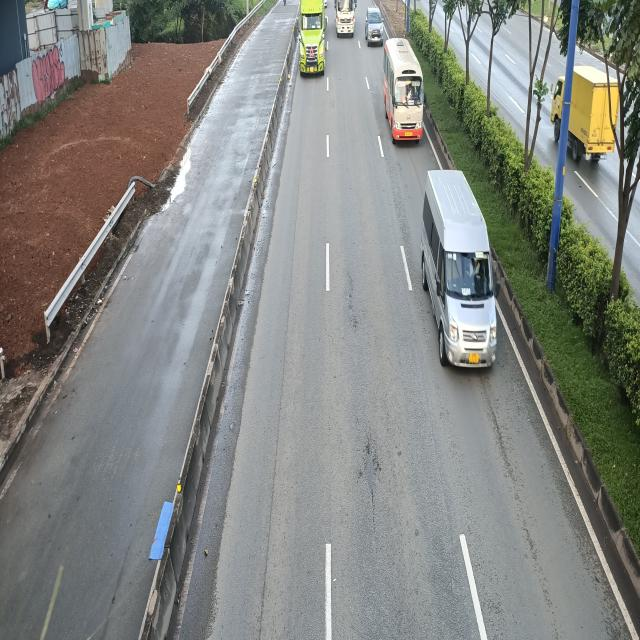car: (366, 7, 385, 46)
coach: (384, 40, 428, 144)
container: (294, 2, 326, 78)
truck: (335, 0, 358, 37)
van: (423, 173, 501, 372)
